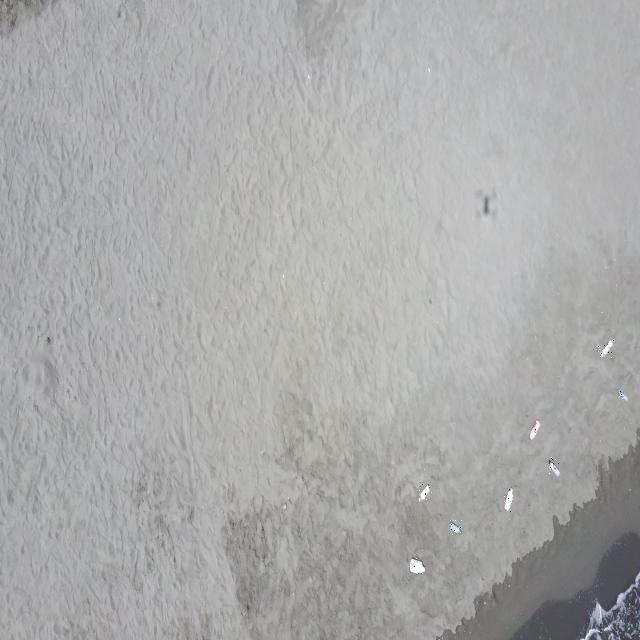plastic-bottle: (409, 556, 426, 576), (598, 338, 614, 359), (528, 419, 541, 443), (418, 484, 432, 501), (504, 488, 513, 512), (549, 458, 560, 477), (449, 520, 462, 536), (618, 390, 630, 402)
